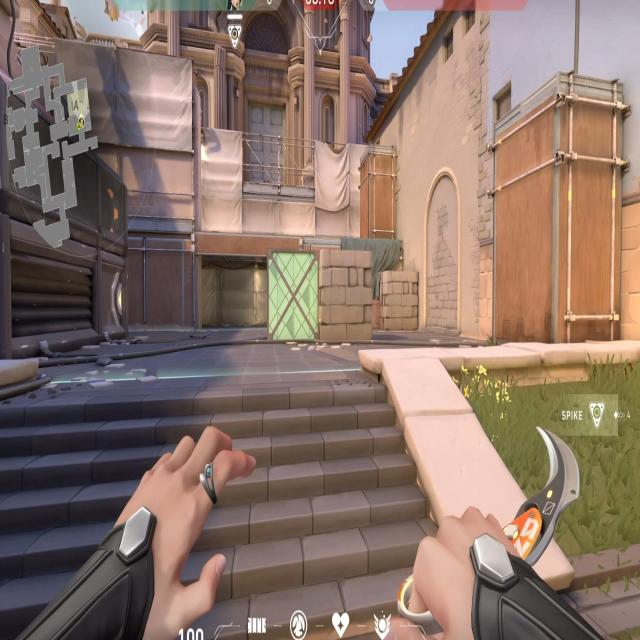A_Heaven_Box: (351, 130, 402, 240)
A_Heaven_Wall: (53, 18, 210, 231)
A_Hell: (187, 224, 306, 339)
A_Site_Box: (258, 246, 382, 362)
